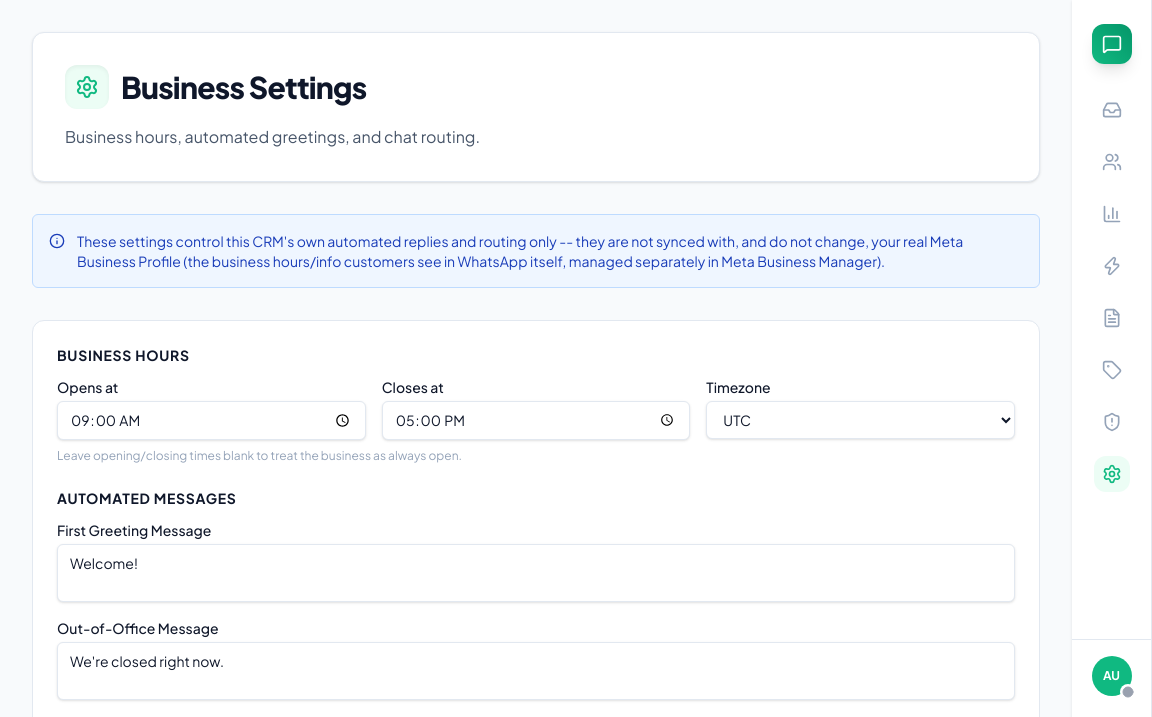
Admin Business Settings Page › saves updated settings
This screenshot has width=1152, height=717.
Replace the text in the text box labelled "First Greeting Message" with "Hey!" at (536, 573), box [57,544,1015,602]
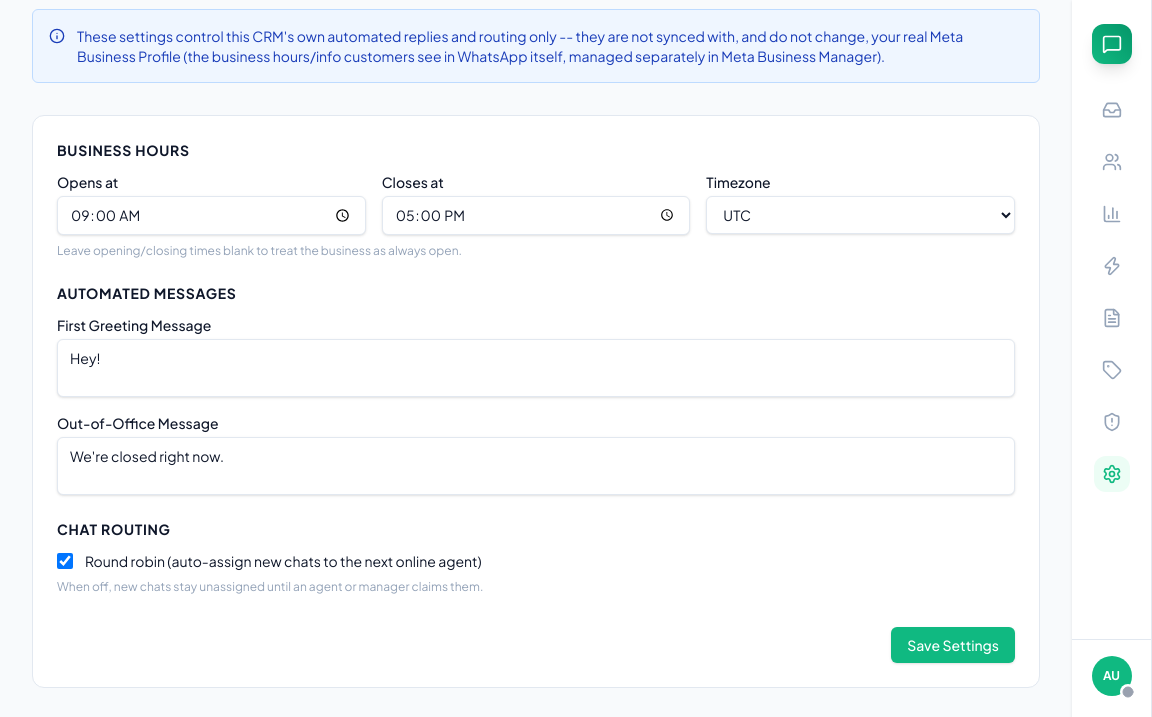
Click the button "Save Settings" at (953, 645), box [891,627,1015,663]
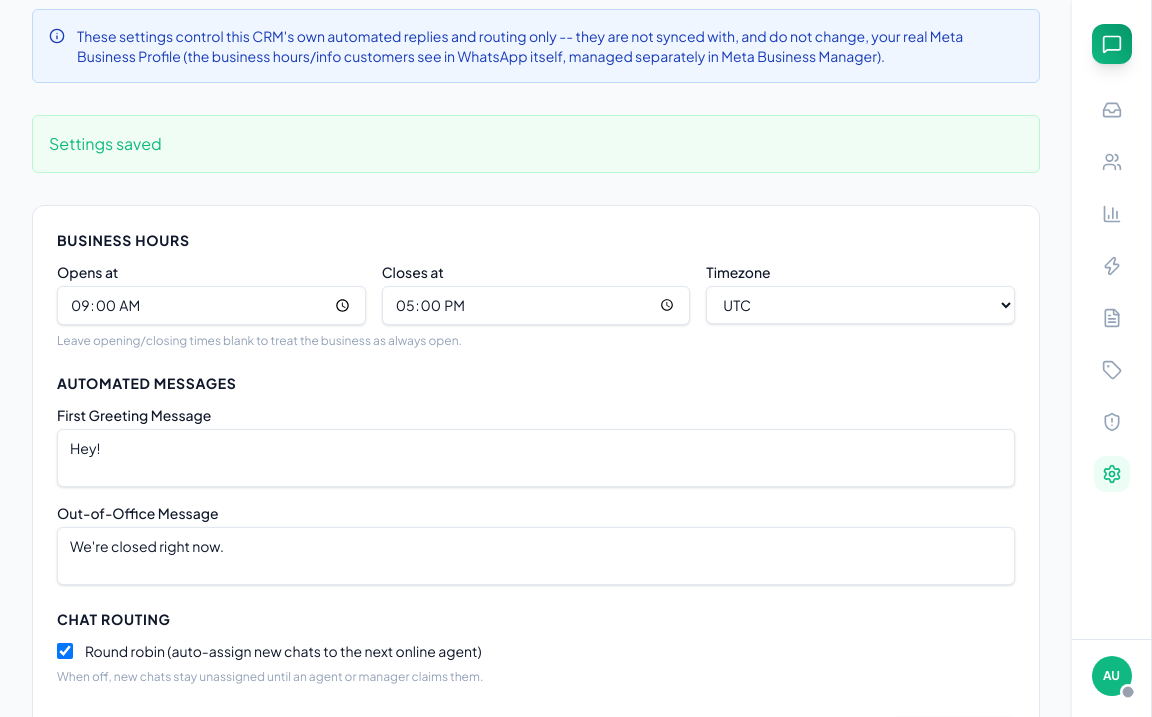
expect the text "Settings saved" is shown: met, box [32,115,1040,173]
